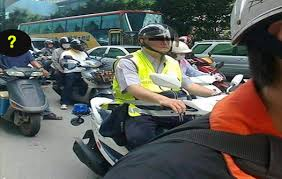helmet: (138, 21, 173, 41)
